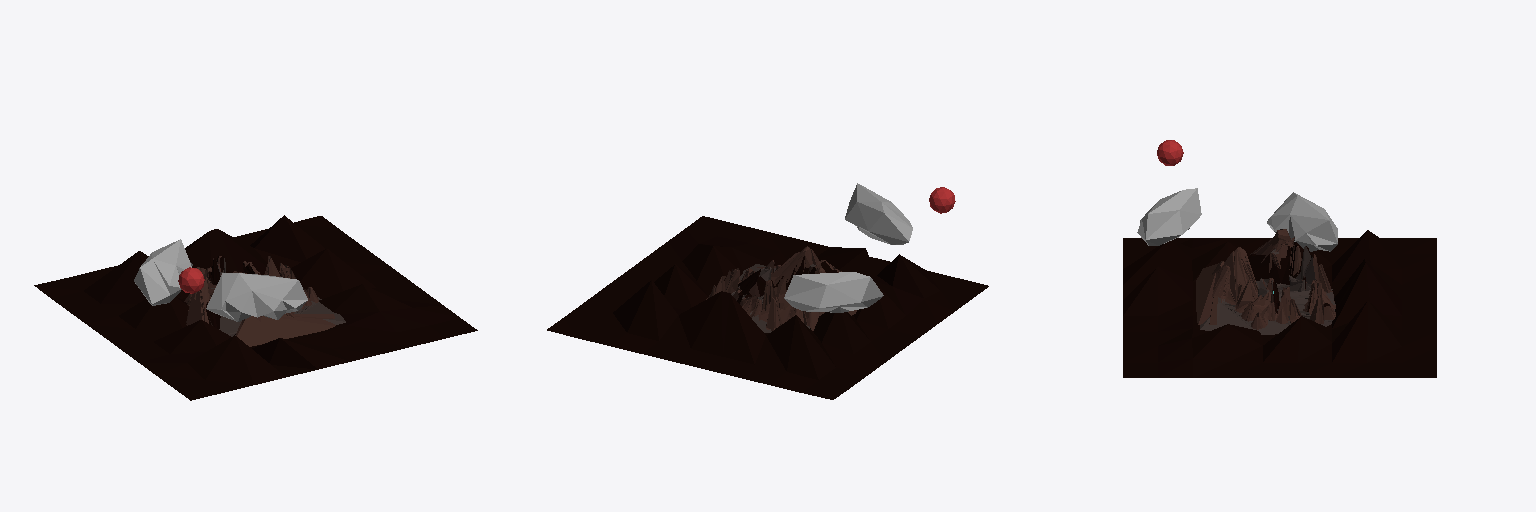
The model's file is mount001.obj.
3 views of the same model, side by side, from view 1: azimuth 30°, elevation 25°; view 2: azimuth 150°, elevation 25°; view 3: azimuth 270°, elevation 25° (orthographic).
Parts seen in each view (by area): view 1: Landscape, Landscape.004, Icosphere.001, Icosphere.002, Icosphere; view 2: Landscape, Landscape.004, Icosphere.002, Icosphere.001, Icosphere; view 3: Landscape, Landscape.004, Icosphere.002, Icosphere.001, Icosphere.
Part boxes in pixels (x1,y1,x2,y2): Landscape: (34,215,477,400); Landscape.004: (184,255,345,346); Icosphere.001: (206,273,307,321); Icosphere.002: (134,239,192,305); Icosphere: (178,267,204,293); Landscape: (547,216,988,399); Landscape.004: (706,246,856,332); Icosphere.002: (784,272,883,312); Icosphere.001: (845,183,912,244); Icosphere: (929,187,955,213); Landscape: (1123,230,1436,377); Landscape.004: (1196,229,1335,334); Icosphere.002: (1267,192,1337,251); Icosphere.001: (1137,188,1201,245); Icosphere: (1157,140,1183,165).
Bounding box in the file's own units: 4.4 × 1.67 × 4.16.